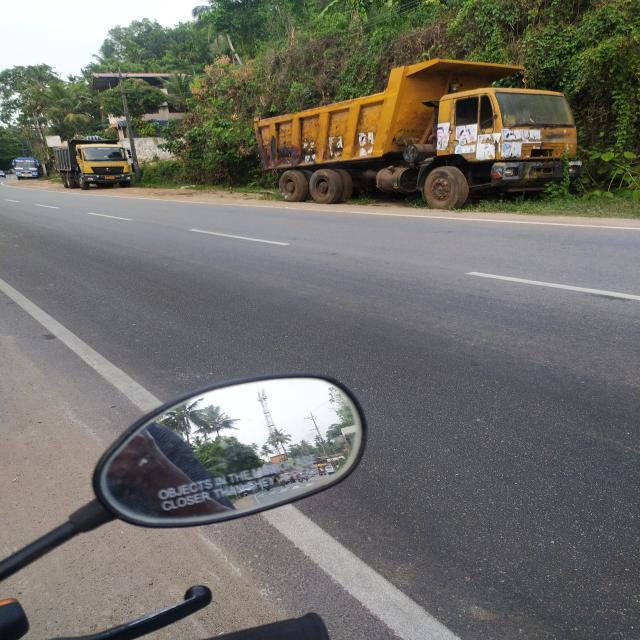bus_front: (9, 152, 43, 182)
truck_front: (249, 53, 586, 213), (49, 131, 140, 192)
